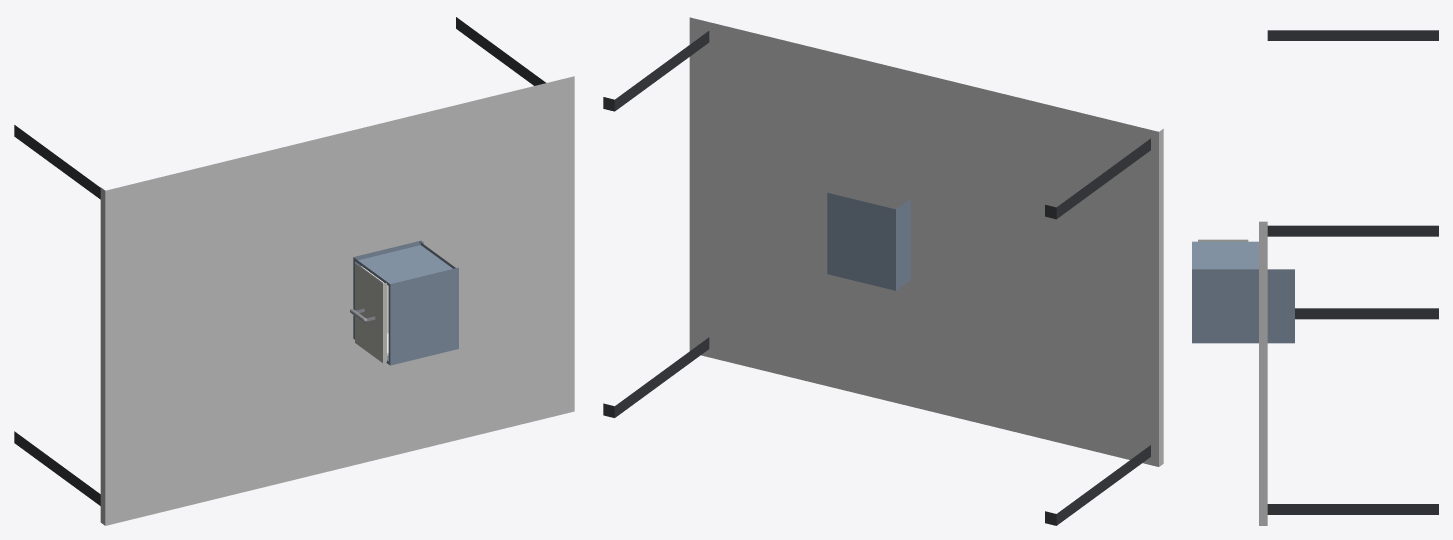
The model's file is t2_9f55bec462.glb.
3 renders of one model, left to right at view 1: azimuth 30°, elevation 25°; view 2: azimuth 150°, elevation 25°; view 3: azimuth 270°, elevation 25°, orthographic. The views are drawn at different scales.
Visible parts, largest first — view 1: s0, s1, s2; view 2: s0, s1; view 3: s0, s1.
Boxes of the visible parts, box(x1,y1,x2,y2) form: s0: box(14, 17, 574, 525); s1: box(353, 240, 458, 365); s2: box(350, 263, 388, 362); s0: box(603, 17, 1163, 525); s1: box(827, 192, 910, 290); s0: box(1259, 30, 1438, 525); s1: box(1192, 241, 1294, 343).
Size of the model in its own units: 2.05 by 1.4 by 1.03.
